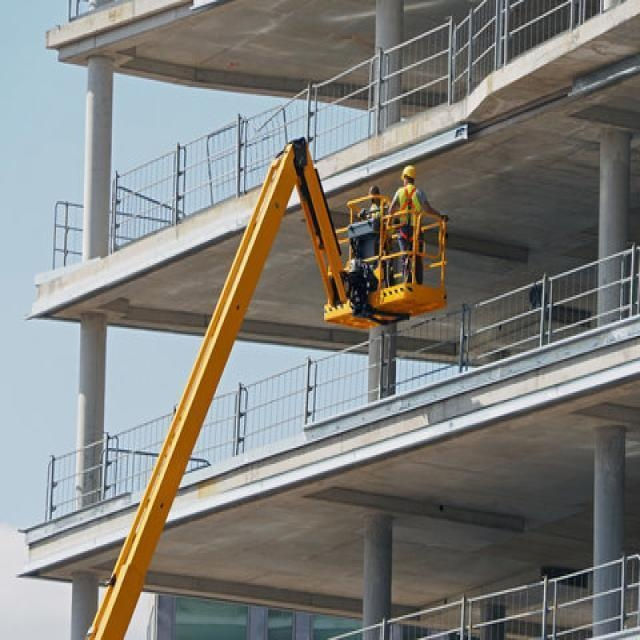Arnes_seguridad: (400, 187, 421, 243)
